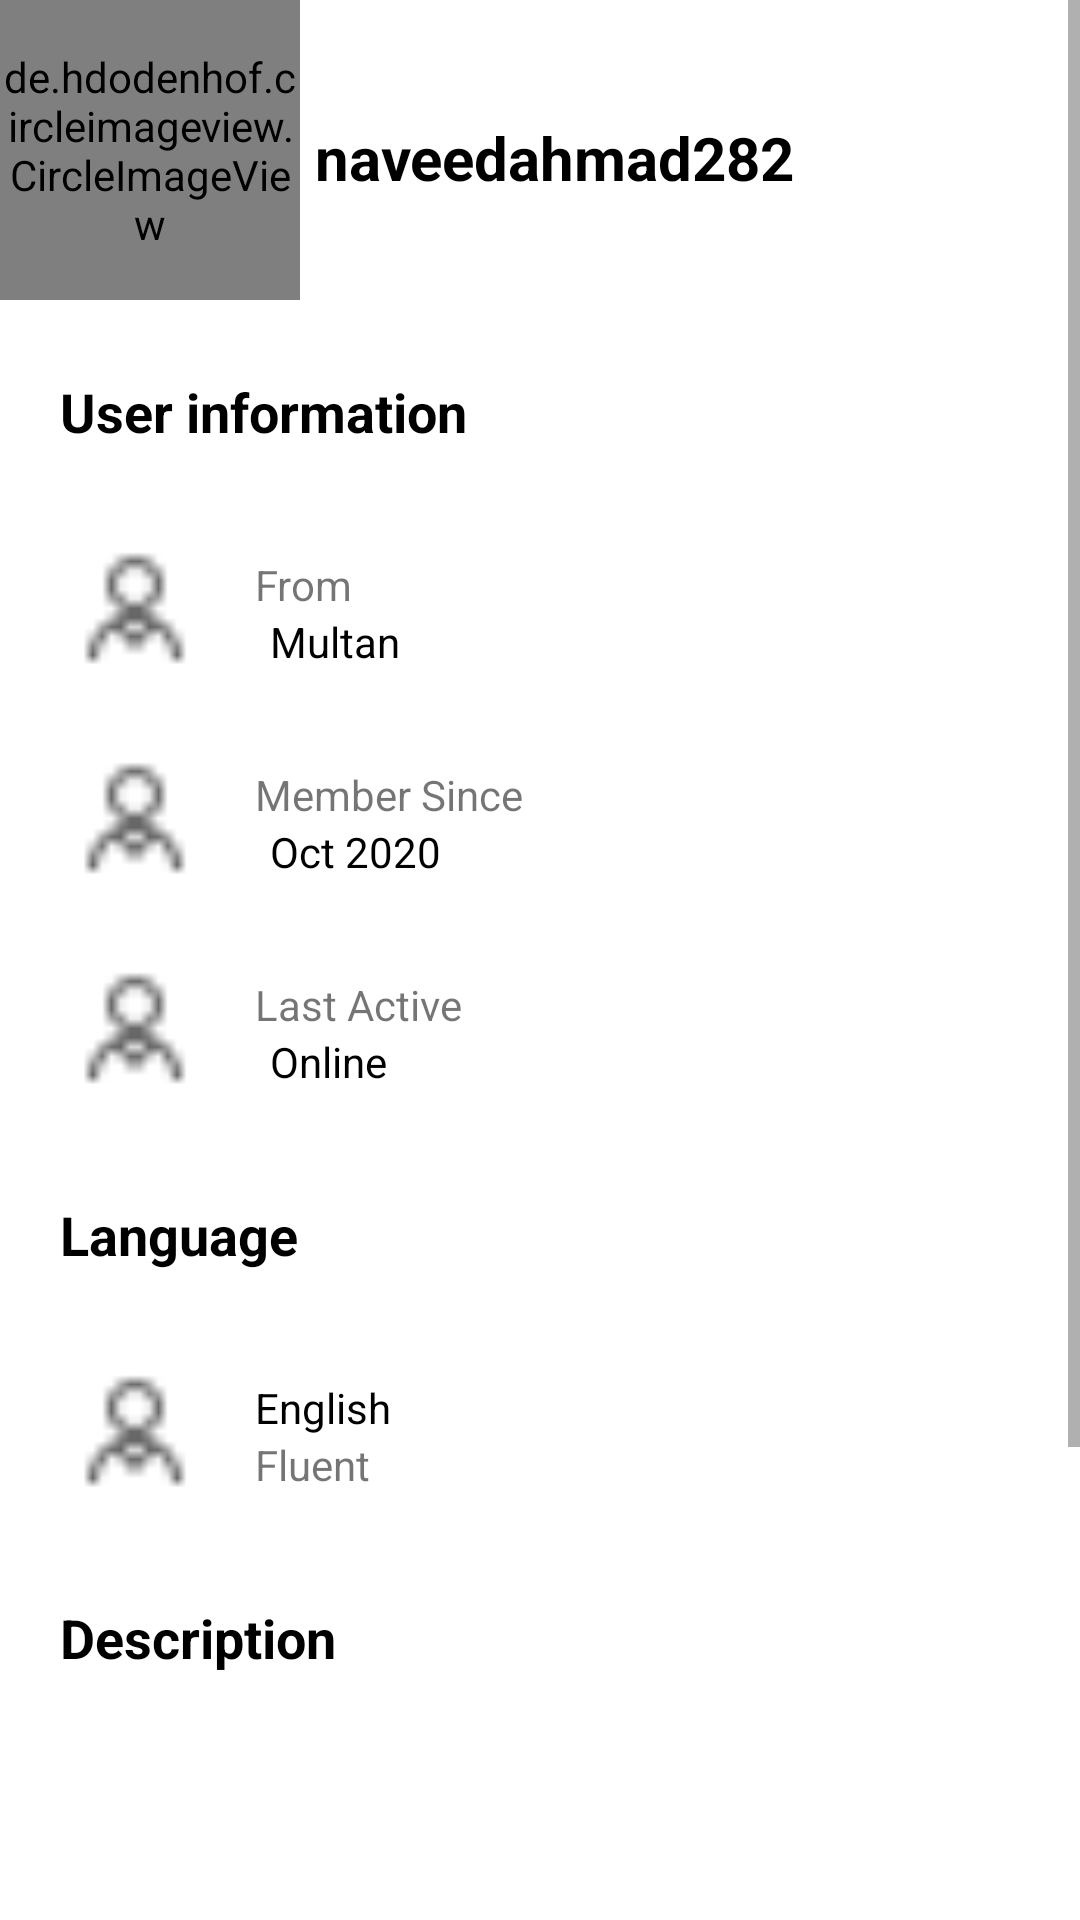

Icon click points for this 1080w x 1920h phone screenshot, format (x,y):
profile: (135,608), (135,818), (135,1028), (135,1431)
